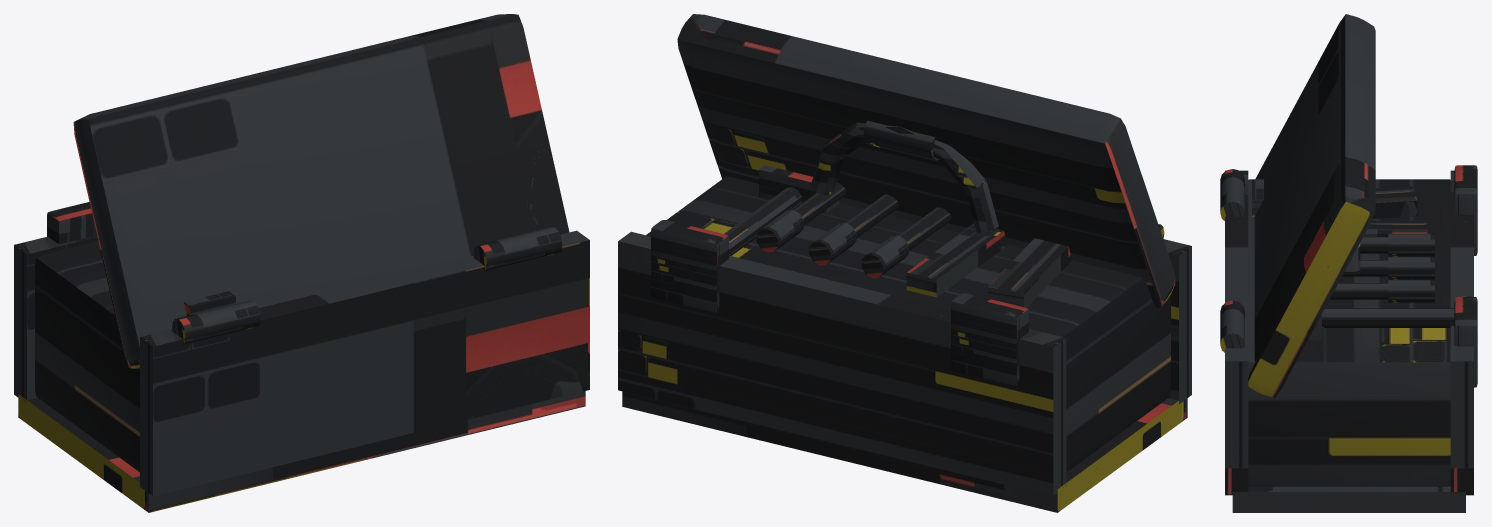
Rendered from PR_toolbox.glb.
The picture shows the model from 3 angles, left to right: view 1: azimuth 30°, elevation 25°; view 2: azimuth 150°, elevation 25°; view 3: azimuth 270°, elevation 25°; orthographic projection. The views are drawn at different scales.
Visible parts, largest first — view 1: PR_toolbox; view 2: PR_toolbox; view 3: PR_toolbox.
Boxes of the visible parts, x1,y1,x2,y2 form: PR_toolbox: (14,14,589,512); PR_toolbox: (618,14,1191,512); PR_toolbox: (1220,14,1477,512).
Size of the model in its own units: 0.58 by 0.4414 by 0.331.
1 material, 1 textured.
